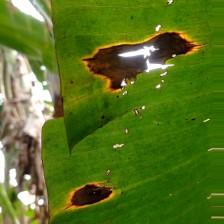cordana: (41, 0, 224, 224)
